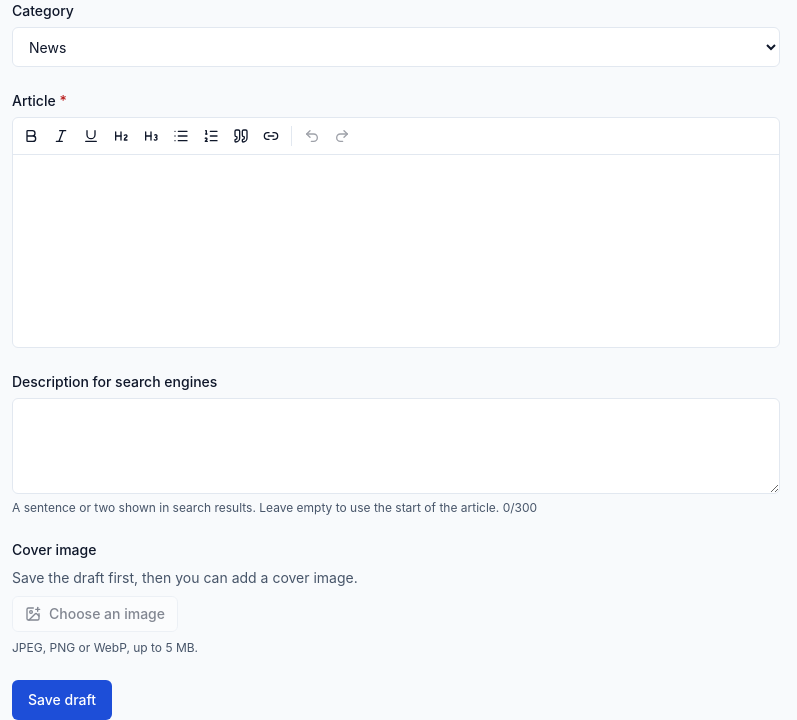
NewsEditPage › shows the validation message of a field
(page scrolled)
Click the button "Save draft".
click(62, 700)  # box top-left (12, 680), bottom-right (112, 719)
(page scrolled)
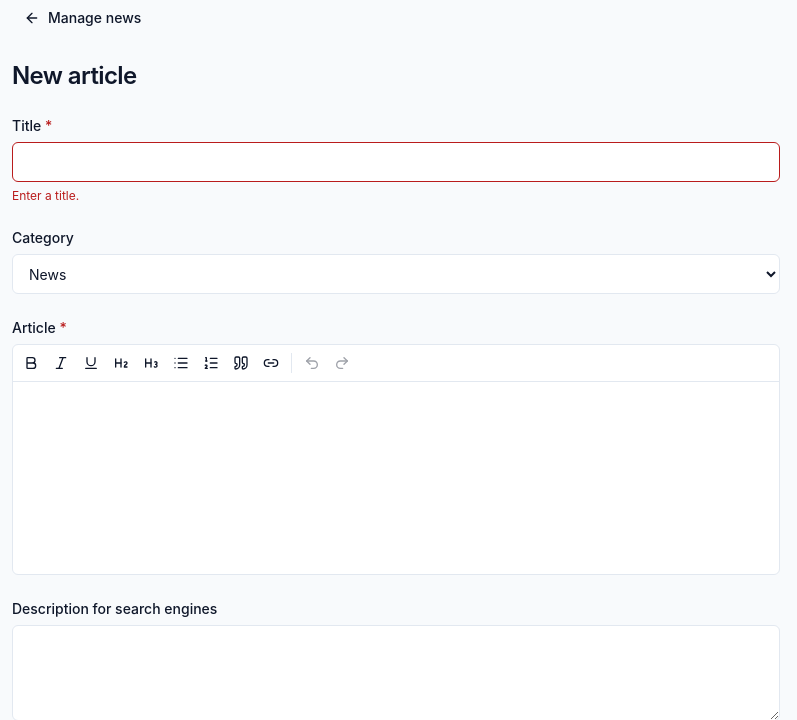
expect the text "Enter a title." is shown: met, box top-left (12, 188), bottom-right (79, 203)
